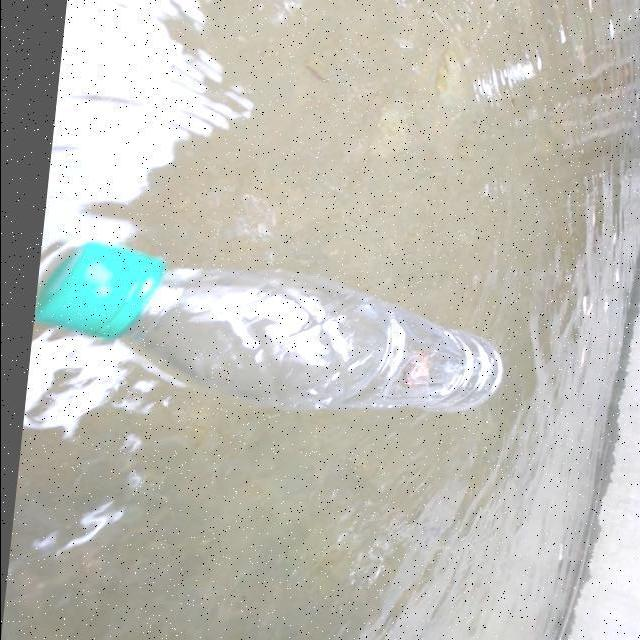Bottle: (35, 237, 504, 413)
